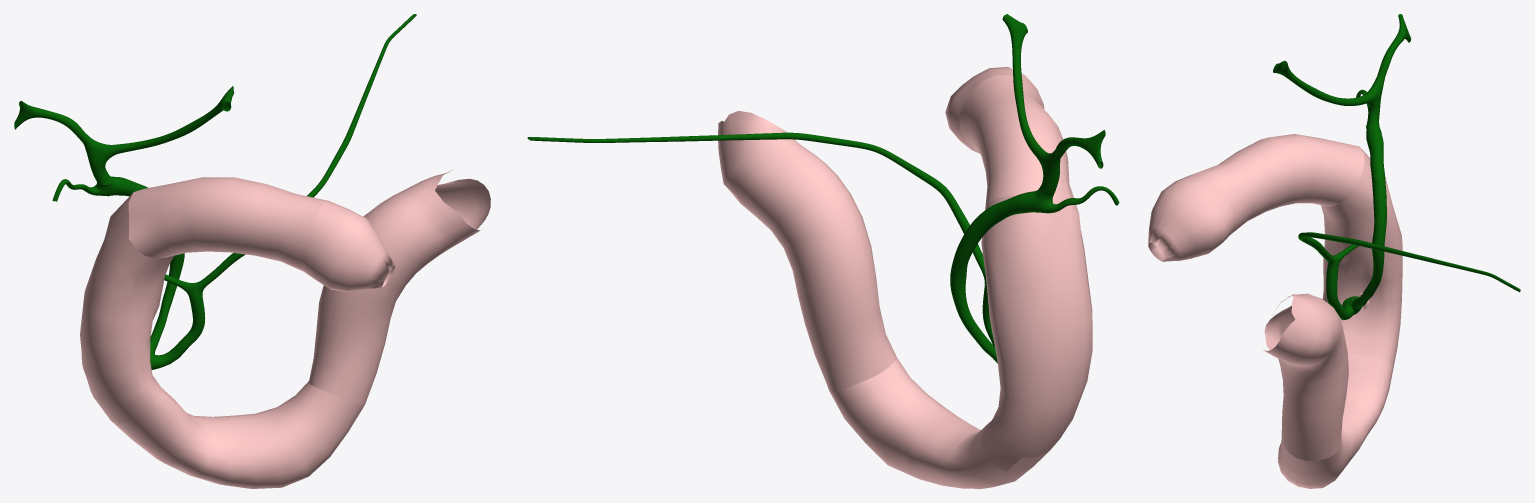
File: VH_M_Pancreas_Landmarks.glb
The picture shows the model from 3 angles, left to right: view 1: azimuth 30°, elevation 25°; view 2: azimuth 150°, elevation 25°; view 3: azimuth 270°, elevation 25°; orthographic projection. The views are drawn at different scales.
Visible parts, largest first — view 1: VH_M_pancreas_landmark_duodenum, VH_M_pancreas_landmark_biliary_tree; view 2: VH_M_pancreas_landmark_duodenum, VH_M_pancreas_landmark_biliary_tree; view 3: VH_M_pancreas_landmark_duodenum, VH_M_pancreas_landmark_biliary_tree.
Boxes of the visible parts, bbox=[...] form: VH_M_pancreas_landmark_duodenum: bbox=[80, 170, 490, 488]; VH_M_pancreas_landmark_biliary_tree: bbox=[14, 14, 416, 369]; VH_M_pancreas_landmark_duodenum: bbox=[718, 66, 1092, 488]; VH_M_pancreas_landmark_biliary_tree: bbox=[527, 14, 1119, 363]; VH_M_pancreas_landmark_duodenum: bbox=[1148, 134, 1402, 488]; VH_M_pancreas_landmark_biliary_tree: bbox=[1273, 14, 1520, 320].
Size of the model in its own units: 0.1334 by 0.1165 by 0.0995.
